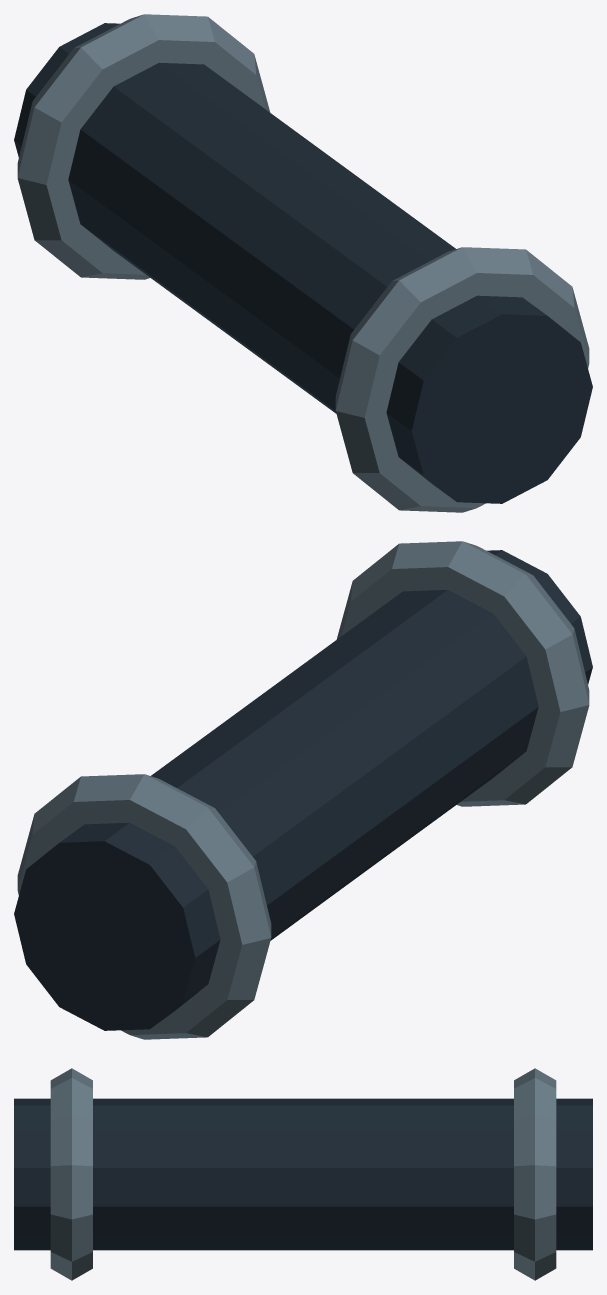
Rendered from fps-suppressor.lod0.glb.
3 views of the same model, one above another, from view 1: azimuth 30°, elevation 25°; view 2: azimuth 150°, elevation 25°; view 3: azimuth 270°, elevation 25° (orthographic). The views are drawn at different scales.
Parts seen in each view (by area): view 1: fps-suppressor__body; view 2: fps-suppressor__body; view 3: fps-suppressor__body.
Boxes of the visible parts, x1=… form: fps-suppressor__body: x1=14, y1=14, x2=592, y2=512; fps-suppressor__body: x1=14, y1=541, x2=592, y2=1039; fps-suppressor__body: x1=14, y1=1068, x2=592, y2=1280.
Bounding box in the file's own units: 0.07 × 0.07 × 0.19.
